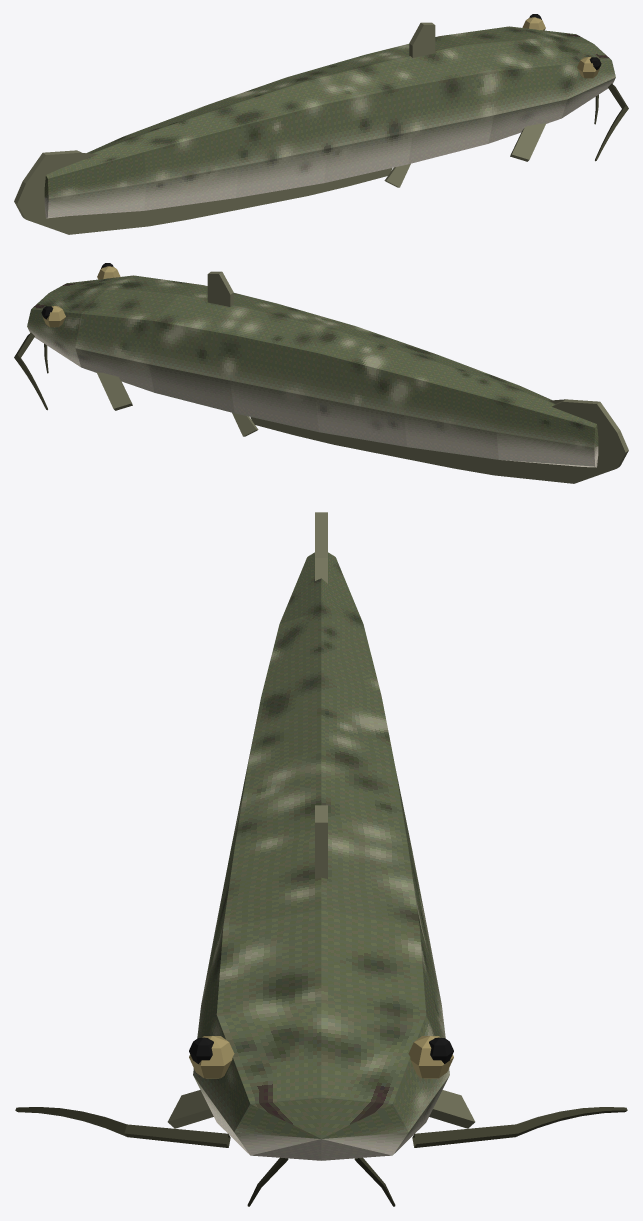
Rendered from catfish.glb.
3 renders of one model, top to bottom at view 1: azimuth 30°, elevation 25°; view 2: azimuth 150°, elevation 25°; view 3: azimuth 270°, elevation 25°, orthographic. The views are drawn at different scales.
Visible parts, largest first — view 1: Fish_catfish; view 2: Fish_catfish; view 3: Fish_catfish.
Part boxes in pixels (x1,y1,x2,y2): Fish_catfish: [14, 14, 628, 234]; Fish_catfish: [14, 263, 628, 483]; Fish_catfish: [15, 512, 627, 1206].
Bounding box in the file's own units: 1.02 × 0.2386 × 0.4631.
5 materials, 1 textured.
